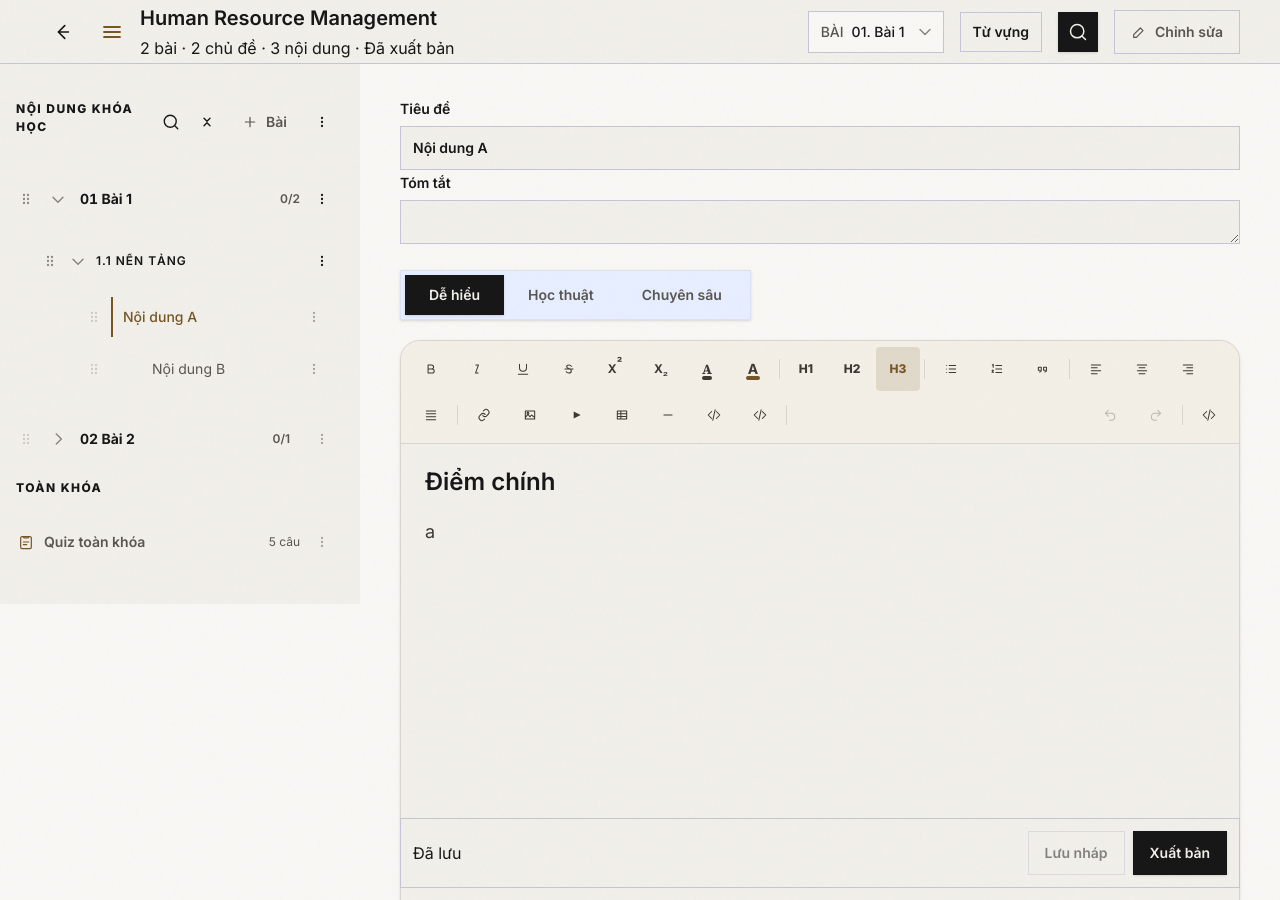
Test: CourseWorkspace edit-mode cache › places course tests, lesson vocab, and unpublished warnings in the outline
This screenshot has width=1280, height=900.
Expected: the field labelled "Tiêu đề" is shown, [400, 126, 1240, 170]
Click the button named "Mở Bài 2".
click(58, 439)  # box [44, 425, 72, 453]
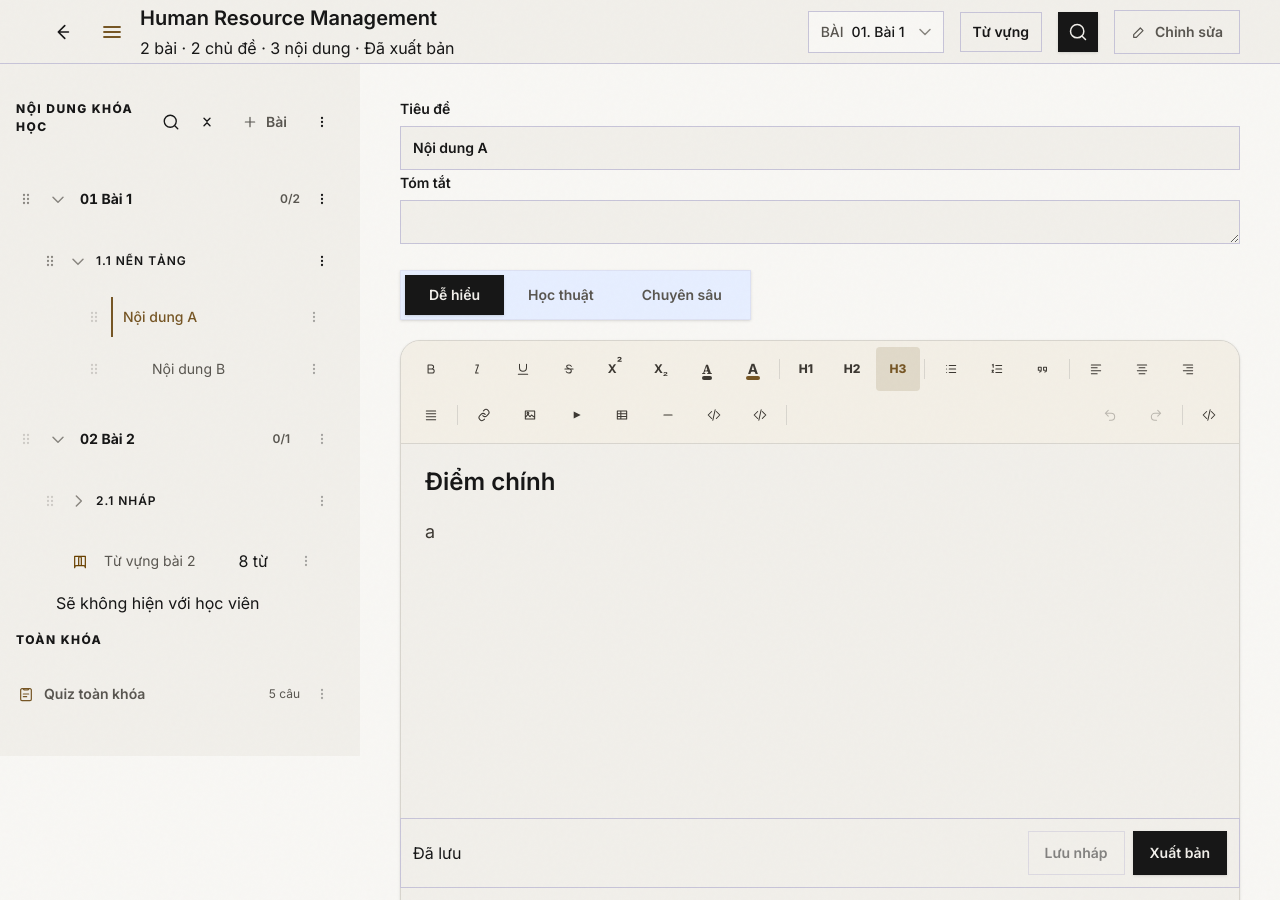
Expected: the text "Toàn khóa" is shown, [16, 632, 102, 647]
Expected: the text "Từ vựng bài 2" is shown, [104, 552, 195, 569]
Expected: the text "Sẽ không hiện với học viên" is shown, [56, 593, 260, 613]
